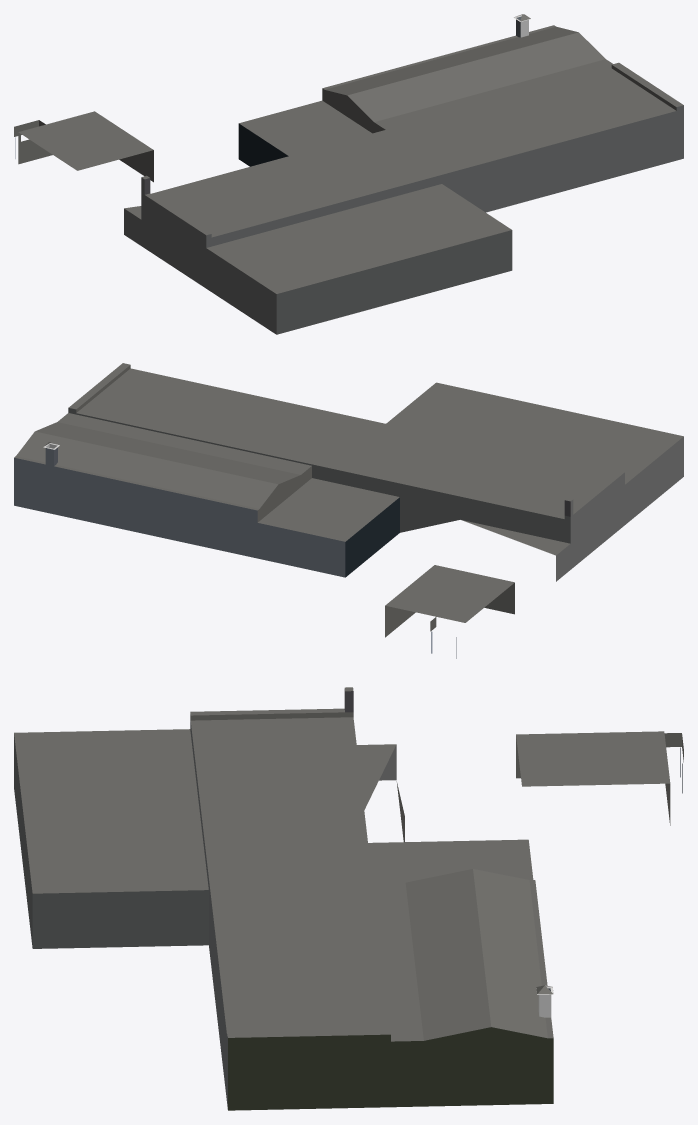
Rendered from 500-broad-street.glb.
3 views of the same model, one above another, from view 1: azimuth 30°, elevation 25°; view 2: azimuth 150°, elevation 25°; view 3: azimuth 270°, elevation 25° (orthographic). The views are drawn at different scales.
Visible parts, largest first — view 1: LOD0; view 2: LOD0; view 3: LOD0.
Boxes of the visible parts, x1,y1,x2,y2 form: LOD0: (14, 14, 683, 334); LOD0: (14, 363, 683, 658); LOD0: (14, 687, 683, 1110).
Size of what is drawn, in the model's own units: 72.18 by 9.58 by 60.96.
2 materials, 2 textured.
